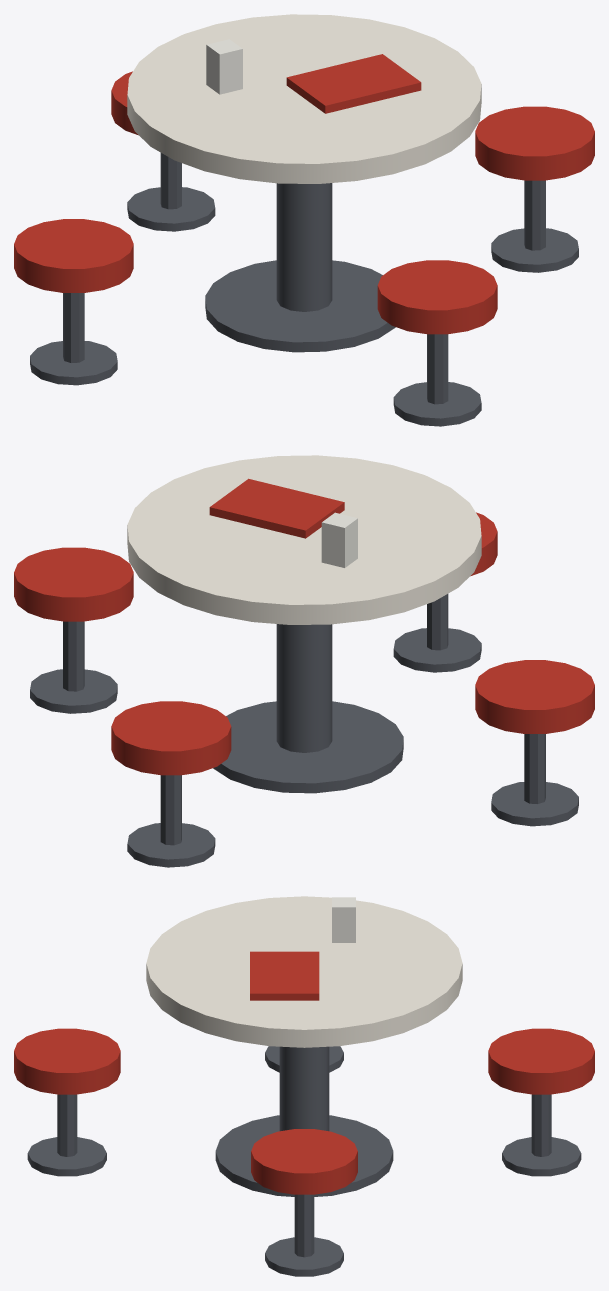
File: food-table.glb
3 views of the same model, one above another, from view 1: azimuth 30°, elevation 25°; view 2: azimuth 150°, elevation 25°; view 3: azimuth 270°, elevation 25° (orthographic). The views are drawn at different scales.
Visible parts, largest first — view 1: part-table-top, part-table-steel, part-stool, part-food-tray, part-cup; view 2: part-table-top, part-table-steel, part-stool, part-food-tray, part-cup; view 3: part-table-top, part-table-steel, part-stool, part-food-tray, part-cup.
Part boxes in pixels (x1=…): part-table-top: x1=127, y1=14, x2=481, y2=183; part-table-steel: x1=30, y1=153, x2=578, y2=426; part-stool: x1=14, y1=71, x2=594, y2=334; part-food-tray: x1=286, y1=54, x2=421, y2=113; part-cup: x1=206, y1=39, x2=242, y2=94; part-table-top: x1=127, y1=455, x2=481, y2=624; part-table-steel: x1=30, y1=594, x2=578, y2=867; part-stool: x1=14, y1=512, x2=594, y2=775; part-food-tray: x1=209, y1=478, x2=344, y2=538; part-cup: x1=321, y1=512, x2=357, y2=567; part-table-top: x1=146, y1=896, x2=462, y2=1047; part-table-steel: x1=27, y1=1046, x2=581, y2=1276; part-stool: x1=14, y1=1028, x2=594, y2=1194; part-food-tray: x1=250, y1=951, x2=319, y2=1000; part-cup: x1=332, y1=897, x2=355, y2=942.
Size of the model in its own units: 58.63 by 26 by 58.8.
